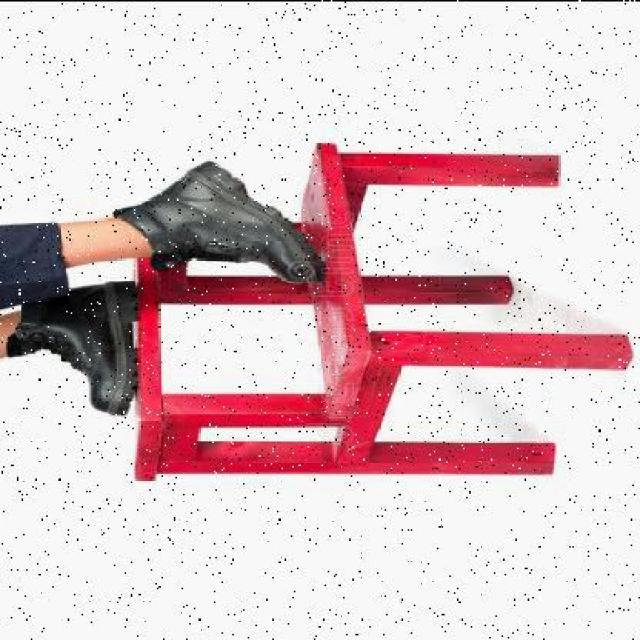shoes: (143, 178, 320, 265), (17, 282, 137, 391)
